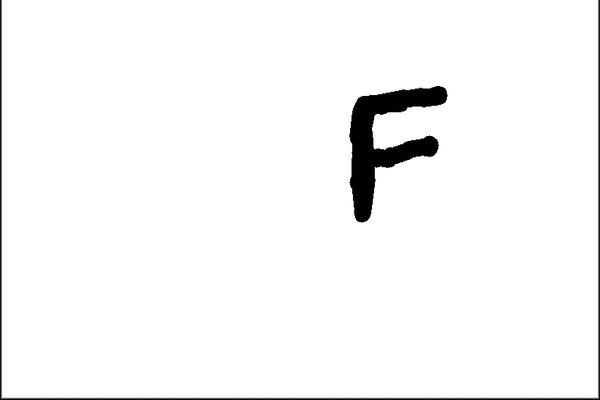F: (343, 81, 455, 227)
